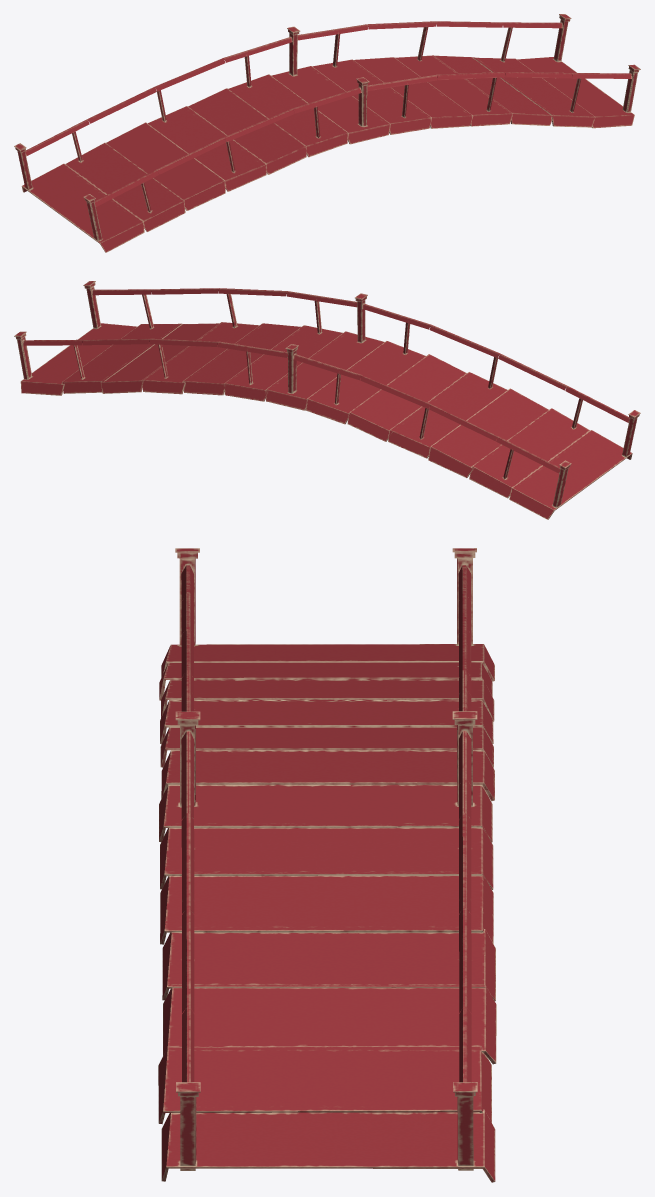
Rendered from prop-bridge.glb.
3 renders of one model, top to bottom at view 1: azimuth 30°, elevation 25°; view 2: azimuth 150°, elevation 25°; view 3: azimuth 270°, elevation 25°, orthographic. The views are drawn at different scales.
Visible parts, largest first — view 1: bake; view 2: bake; view 3: bake.
Part boxes in pixels (x1,y1,x2,y2): bake: (14,14,640,252); bake: (14,281,640,519); bake: (158,548,496,1182).
Bounding box in the file's own units: 14.03 × 2.56 × 3.73.
1 material, 1 textured.
